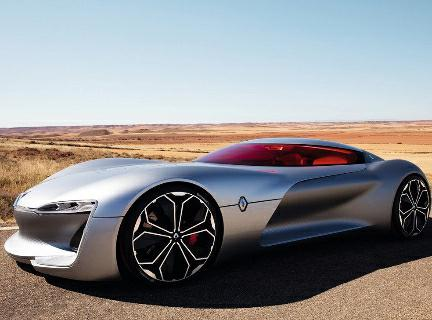雷诺-TREZOR: (2, 134, 432, 292)
